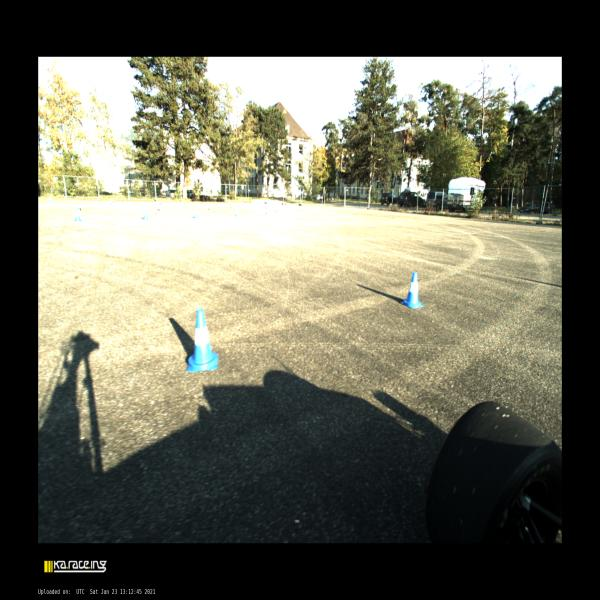blue_cone: (187, 308, 218, 372), (400, 272, 424, 309), (74, 208, 83, 221), (192, 208, 198, 218), (142, 211, 148, 220), (234, 210, 238, 216), (48, 196, 52, 202), (110, 199, 113, 204), (265, 207, 267, 214), (275, 208, 277, 212)
yellow_cone: (157, 207, 160, 214), (208, 207, 210, 213)
